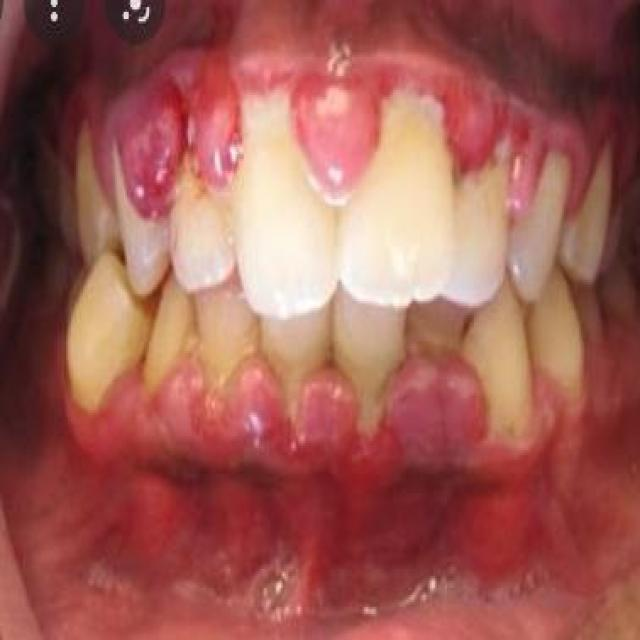Gingivitis: (142, 467, 508, 576), (120, 89, 188, 214), (400, 364, 479, 454)
